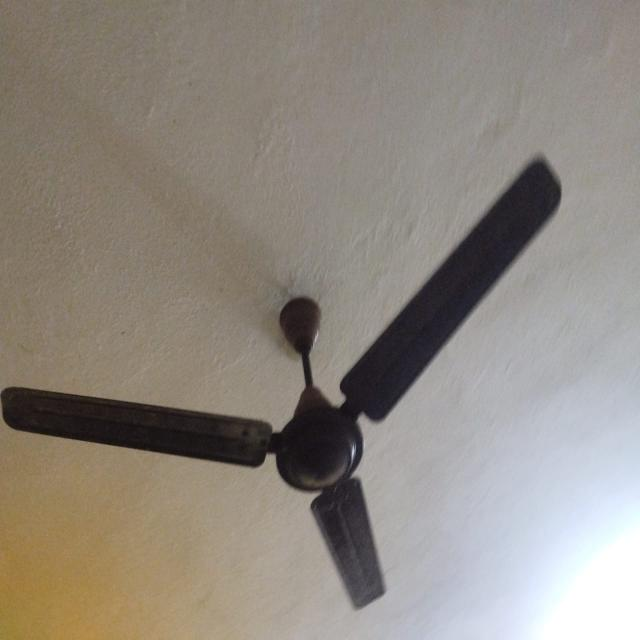fan_off: (0, 148, 568, 608)
